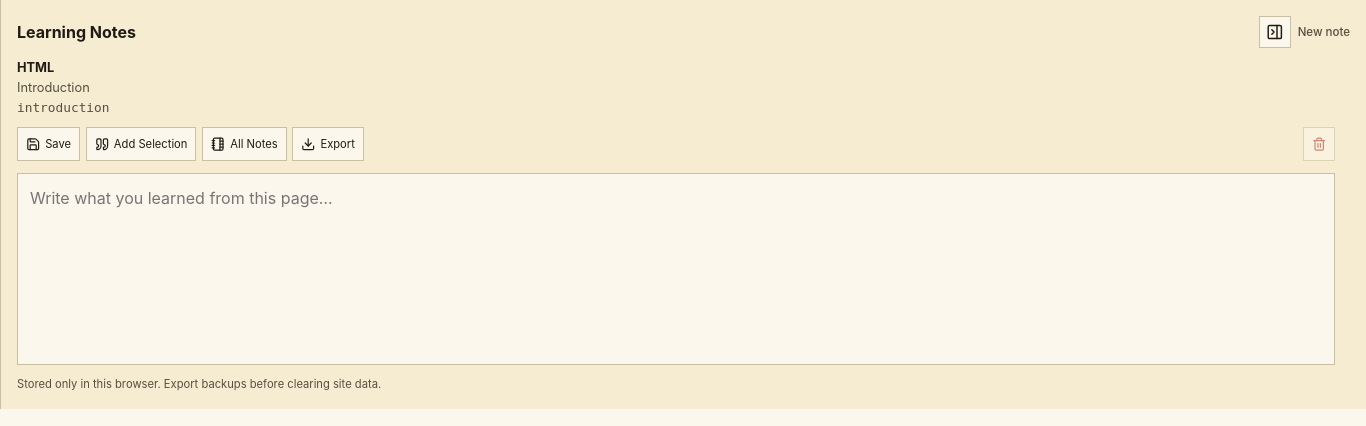
Test case: LearningNotesPanel › keeps editor text and reports failure when saving fails
Type "Do not lose this" into the text box named "Note for current page".
click(676, 269); type("Do not lose this")  # box 17,173 -> 1335,365
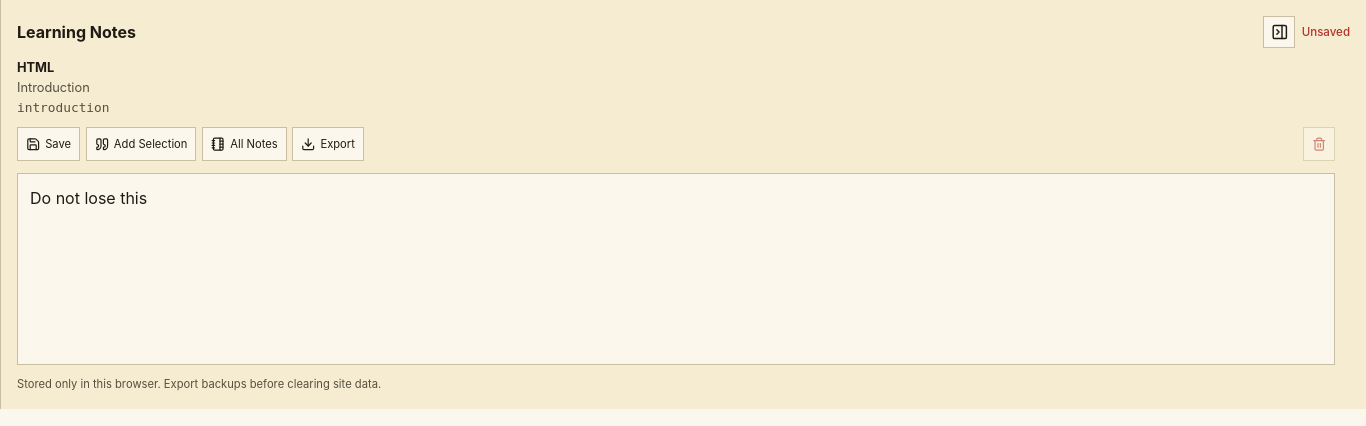
Click the button "Save".
click(49, 144)  # box 17,127 -> 80,161
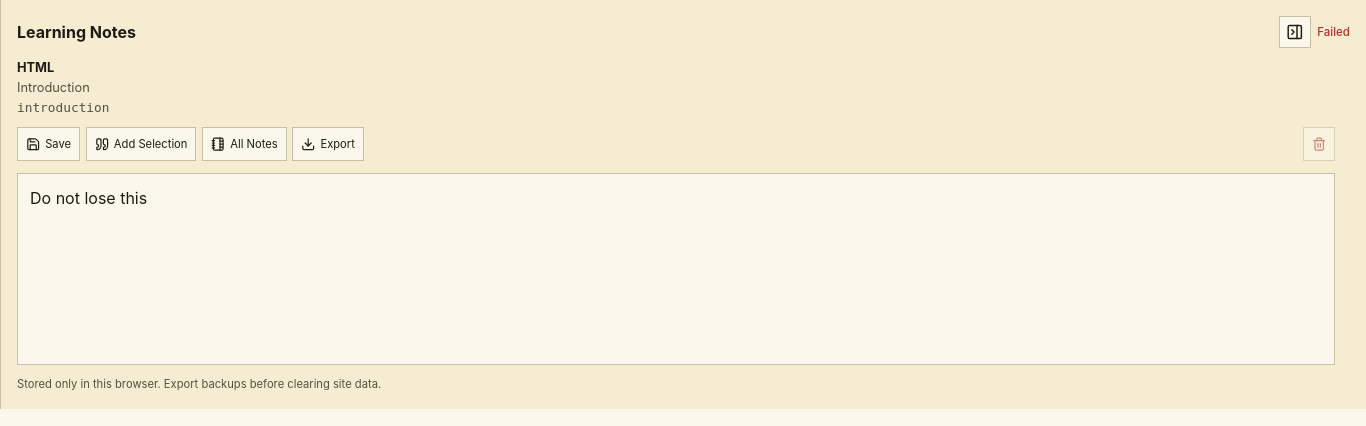
expect the text "Failed" is shown: met, box 1317,25 -> 1350,39
